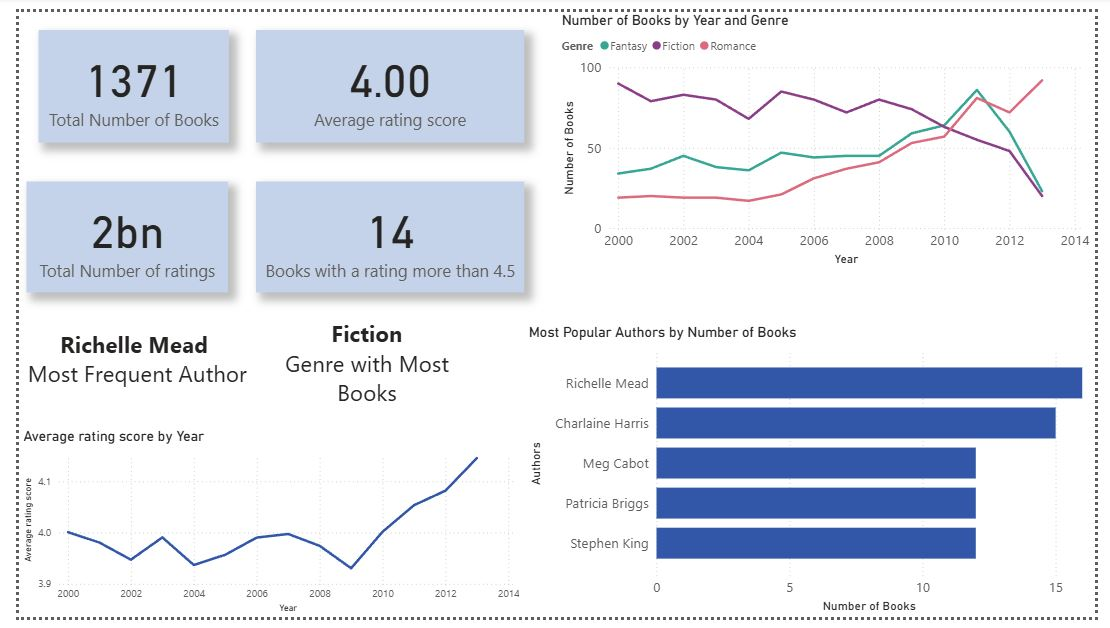

Layout of this report page (visuals, bound fields, positions):
{"tool":"powerbi","page":{"name":"Top Rated Books Overview","canvas":[1280,720],"ordinal":0},"visuals":[{"type":"card","fields":{"Values":["goodreads_data.Count of Books"]},"box":[22.7,20.8,226.8,134.2],"z":0},{"type":"card","fields":{"Values":["goodreads_data.Average rating score"]},"box":[281.6,20.8,319.4,134.2],"z":1000},{"type":"card","fields":{"Values":["goodreads_data.num_ratings"]},"box":[9.4,202.2,240,132.3],"z":2000},{"type":"card","fields":{"Values":["goodreads_data.Books with a rating more than 4.5"]},"box":[281.6,202.2,319.4,132.3],"z":3000},{"type":"textbox","box":[0,372.3,281.6,122.8],"z":4000},{"type":"textbox","box":[281.6,359.1,264.6,136.1],"z":5000},{"type":"lineChart","fields":{"Category":["goodreads_data.publication_date.Variation.Date Hierarchy.Year"],"Series":["goodreads_data.Genre"],"Y":["goodreads_data.Count of Books"]},"box":[640.6,0,638.7,306.1],"z":6000},{"type":"clusteredBarChart","title":"Most Popular Authors by Number of Books","fields":{"Category":["goodreads_data.authors"],"Y":["goodreads_data.Count of Books"]},"box":[600.9,372.3,678.4,347.7],"z":7000},{"type":"lineChart","fields":{"Category":["goodreads_data.Year"],"Y":["goodreads_data.Average rating score"]},"box":[0,495.1,600.9,224.9],"z":8000}]}

Visuals, with their boxes in screenshot pixels (x1, y1, x2, y2), scaled from the page's 1280x720 canvas onto the 1110x628 screenshot:
card - goodreads_data.Count of Books: bbox(20, 18, 216, 135)
card - goodreads_data.Average rating score: bbox(244, 18, 521, 135)
card - goodreads_data.num_ratings: bbox(8, 176, 216, 292)
card - goodreads_data.Books with a rating more than 4.5: bbox(244, 176, 521, 292)
textbox: bbox(0, 325, 244, 432)
textbox: bbox(244, 313, 474, 432)
lineChart - goodreads_data.publication_date.Variation.Date Hierarchy.Year x goodreads_data.Genre: bbox(556, 0, 1109, 267)
"Most Popular Authors by Number of Books" clusteredBarChart: bbox(521, 325, 1109, 627)
lineChart - goodreads_data.Year x goodreads_data.Average rating score: bbox(0, 432, 521, 627)
